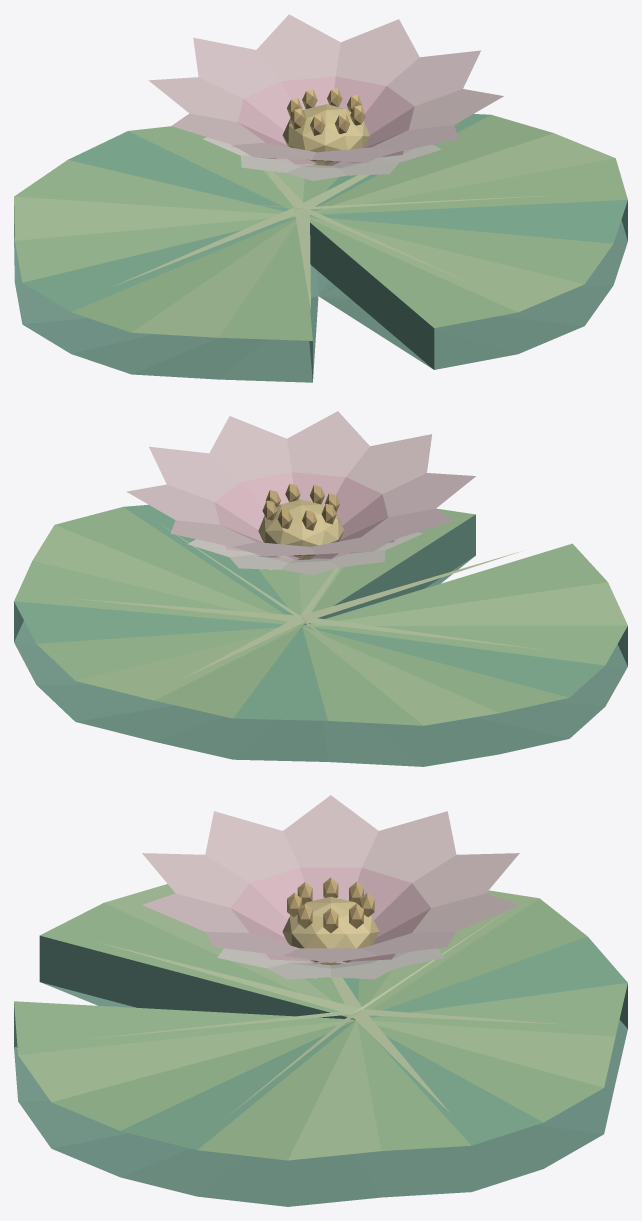
The model's file is water_lily_open.glb.
3 views of the same model, one above another, from view 1: azimuth 30°, elevation 25°; view 2: azimuth 150°, elevation 25°; view 3: azimuth 270°, elevation 25° (orthographic). The views are drawn at different scales.
Parts seen in each view (by area): view 1: Floating_pad_leaf, Pink_open_bloom_outer_petals, Floating_pad_edge, Pink_open_bloom_gold, Floating_pad_veins, Pink_open_bloom_inner_petals; view 2: Floating_pad_leaf, Floating_pad_edge, Pink_open_bloom_outer_petals, Floating_pad_veins, Pink_open_bloom_gold, Pink_open_bloom_inner_petals; view 3: Floating_pad_leaf, Floating_pad_edge, Pink_open_bloom_outer_petals, Pink_open_bloom_gold, Floating_pad_veins, Pink_open_bloom_inner_petals.
Part boxes in pixels (box(x1,y1,x2,y2)): Floating_pad_leaf: box(14, 114, 627, 340); Pink_open_bloom_outer_petals: box(148, 14, 503, 165); Floating_pad_edge: box(14, 200, 627, 382); Pink_open_bloom_gold: box(282, 88, 369, 165); Floating_pad_veins: box(76, 125, 567, 309); Pink_open_bloom_inner_petals: box(203, 137, 441, 180); Floating_pad_leaf: box(14, 504, 627, 725); Floating_pad_edge: box(14, 514, 627, 766); Pink_open_bloom_outer_petals: box(126, 411, 475, 560); Floating_pad_veins: box(67, 524, 549, 697); Pink_open_bloom_gold: box(258, 483, 343, 559); Pink_open_bloom_inner_petals: box(188, 532, 422, 574); Floating_pad_leaf: box(14, 884, 627, 1160); Floating_pad_edge: box(14, 935, 627, 1206); Pink_open_bloom_outer_petals: box(142, 795, 519, 964); Pink_open_bloom_gold: box(282, 877, 379, 965); Floating_pad_veins: box(80, 914, 566, 1115); Pink_open_bloom_inner_petals: box(217, 948, 444, 979).
Bounding box in the file's own units: 1.33 × 0.458 × 1.14.
